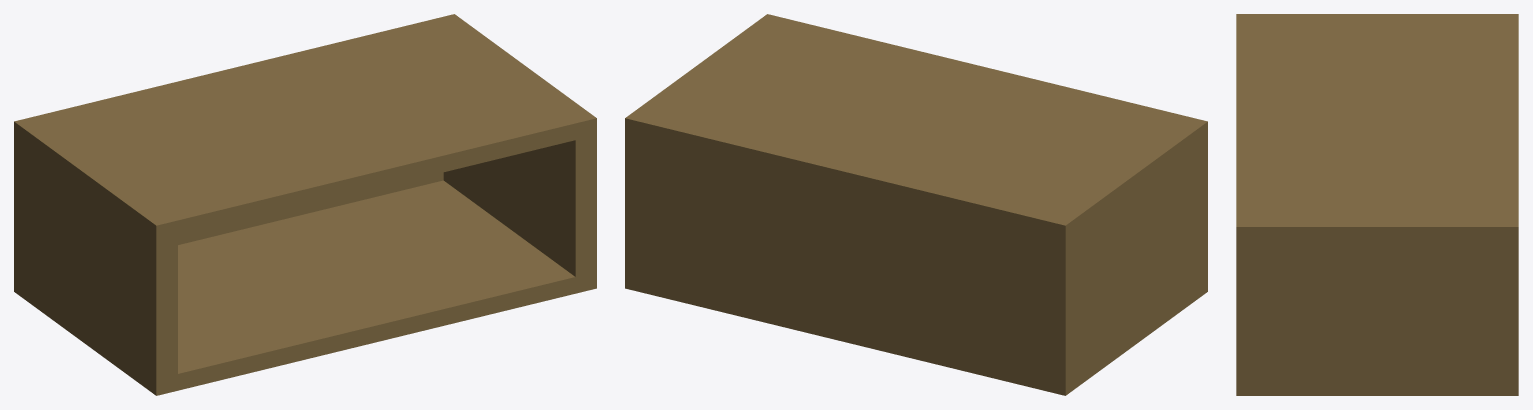
File: Itr_Wardrobe3_Body1_01.FBX
3 views of the same model, side by side, from view 1: azimuth 30°, elevation 25°; view 2: azimuth 150°, elevation 25°; view 3: azimuth 270°, elevation 25° (orthographic).
Parts seen in each view (by area): view 1: Itr_Wardrobe3_Body1_01; view 2: Itr_Wardrobe3_Body1_01; view 3: Itr_Wardrobe3_Body1_01.
Boxes of the visible parts, x1,y1,x2,y2 form: Itr_Wardrobe3_Body1_01: (14,14,596,395); Itr_Wardrobe3_Body1_01: (625,14,1207,395); Itr_Wardrobe3_Body1_01: (1236,14,1518,395).
Bounding box in the file's own units: 43.75 × 16.16 × 24.49.
